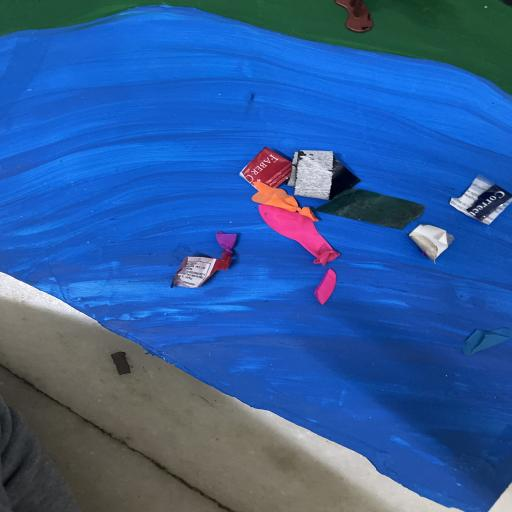trash: (168, 120, 512, 308)
